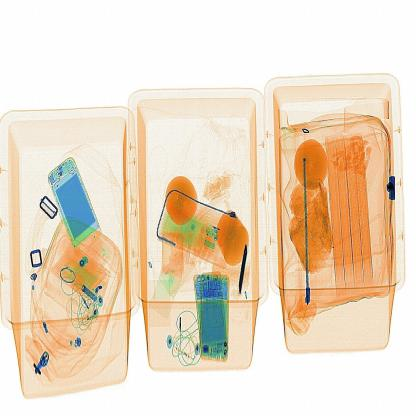wrench: (228, 232, 255, 301)
